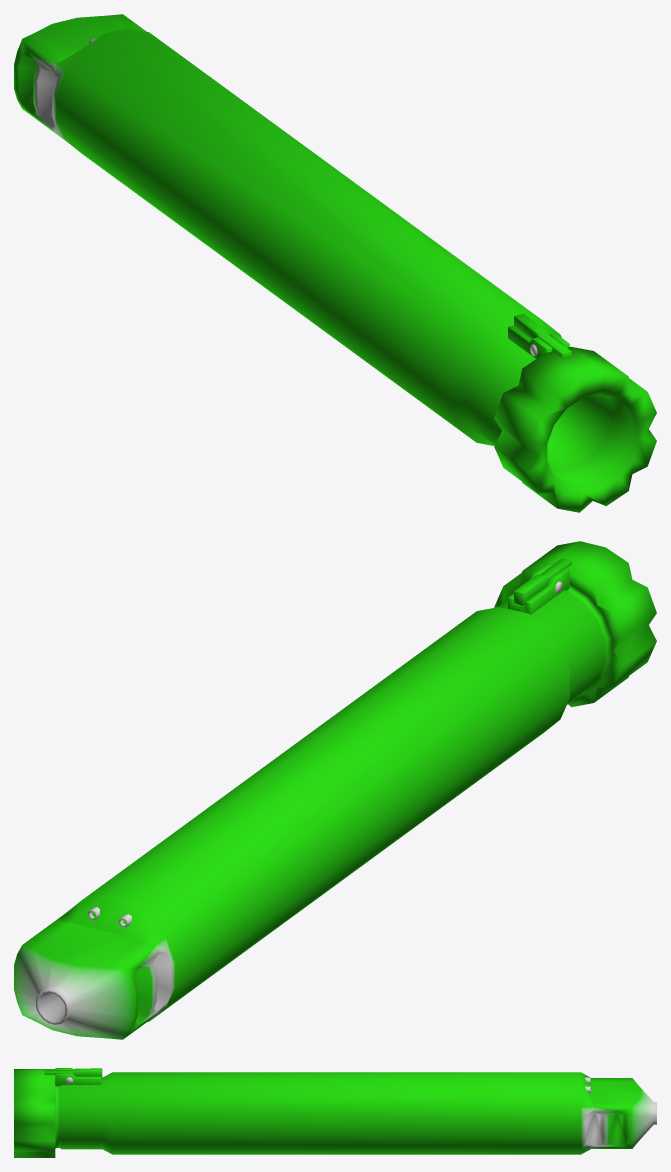
The model's file is barrett-50bmg-sulencer.fbx.
The picture shows the model from 3 angles, top to bottom: view 1: azimuth 30°, elevation 25°; view 2: azimuth 150°, elevation 25°; view 3: azimuth 270°, elevation 25°; orthographic projection. The views are drawn at different scales.
Parts seen in each view (by area): view 1: 50bmg-supressor_low; view 2: 50bmg-supressor_low; view 3: 50bmg-supressor_low.
Part boxes in pixels (left/top/right/bottom): 50bmg-supressor_low: left=14, top=14, right=656, bottom=512; 50bmg-supressor_low: left=14, top=541, right=656, bottom=1039; 50bmg-supressor_low: left=14, top=1068, right=656, bottom=1157.
Bounding box in the file's own units: 3.04 × 3.19 × 22.23.
